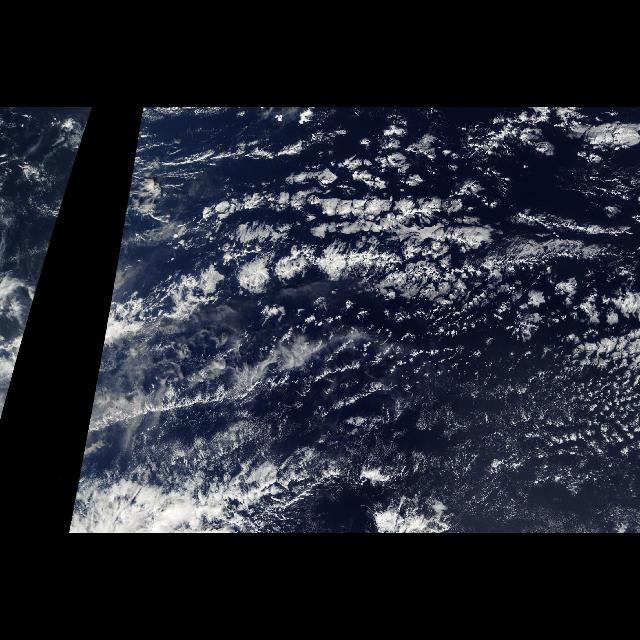Sugar: (190, 342, 624, 516)
